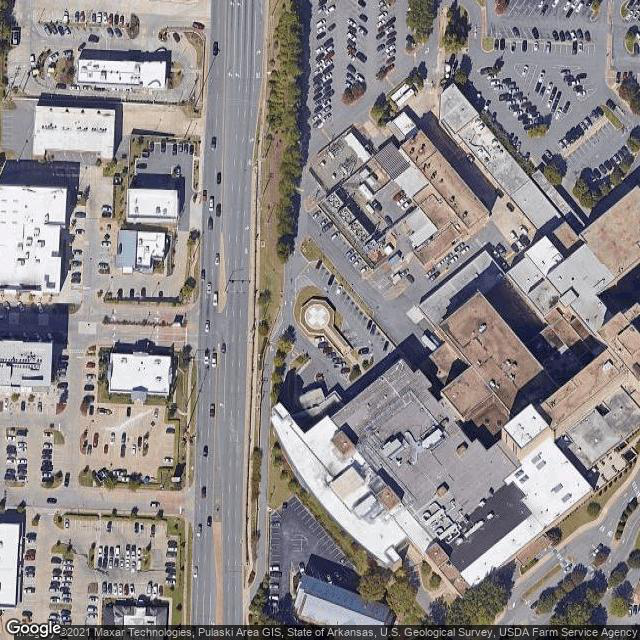Helipad: (301, 304, 333, 329)
